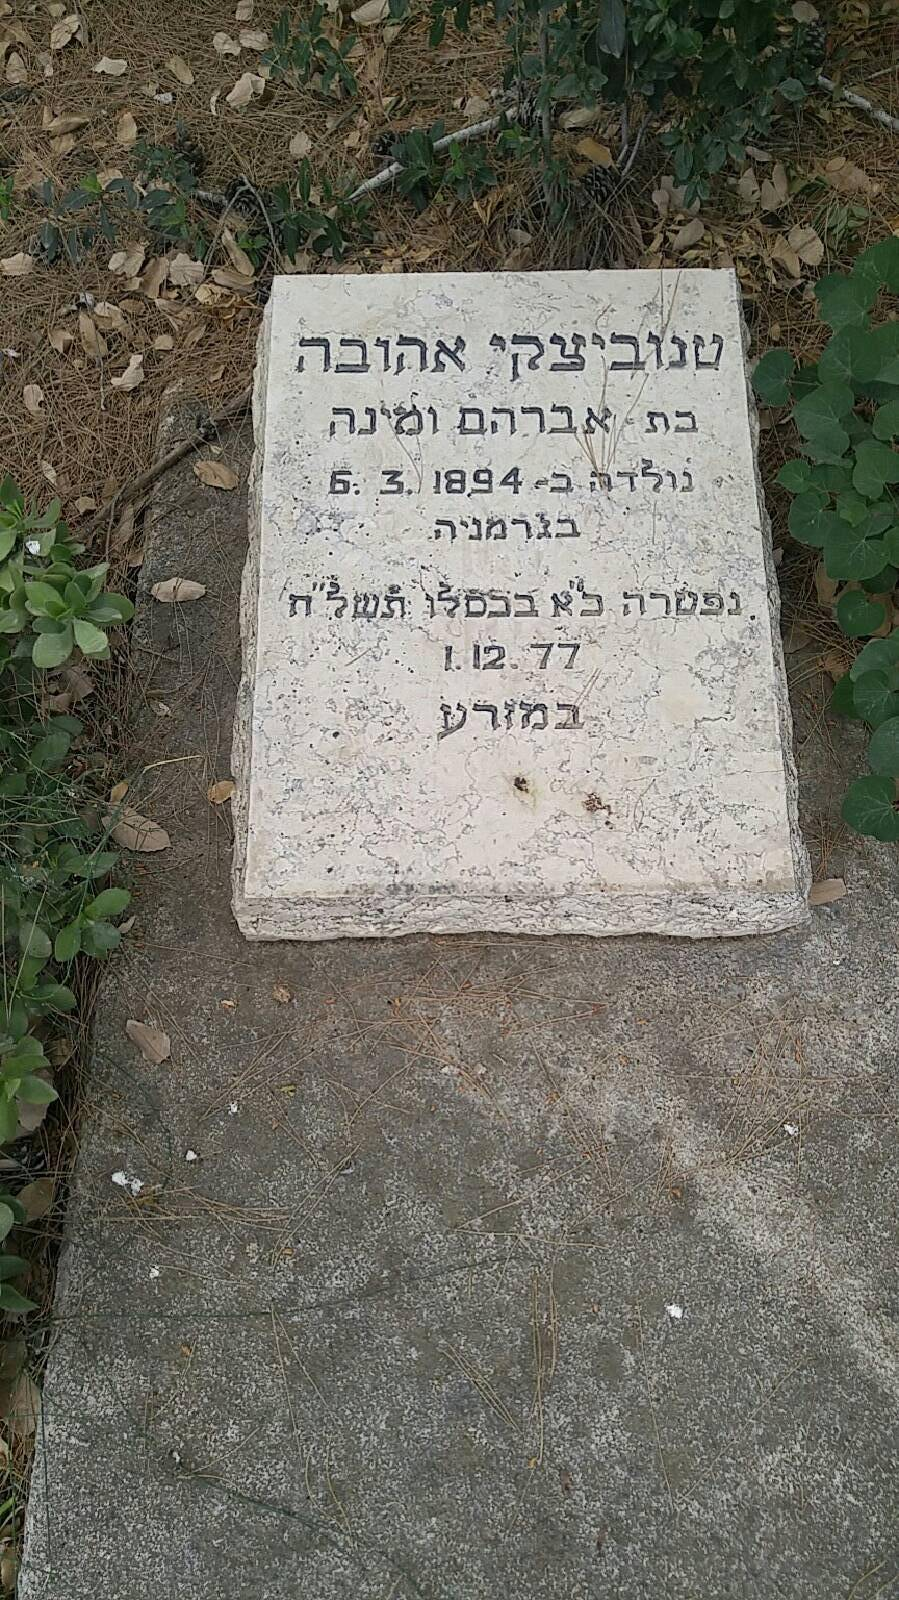flat: (217, 262, 825, 999)
